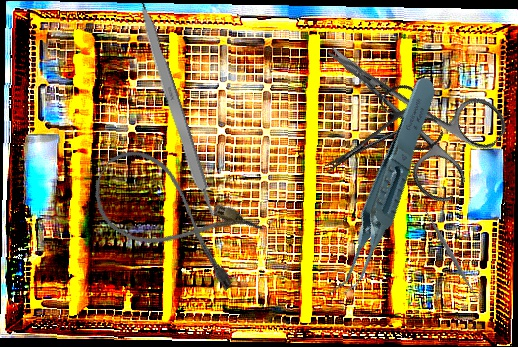Cannula: (79, 138, 267, 296)
Iris Scissors: (296, 2, 515, 210), (307, 77, 447, 202)
Scalpel Handle: (133, 0, 218, 221)
Spatula Surgical: (417, 201, 484, 305)
Tissue Forceps: (287, 73, 478, 304)
